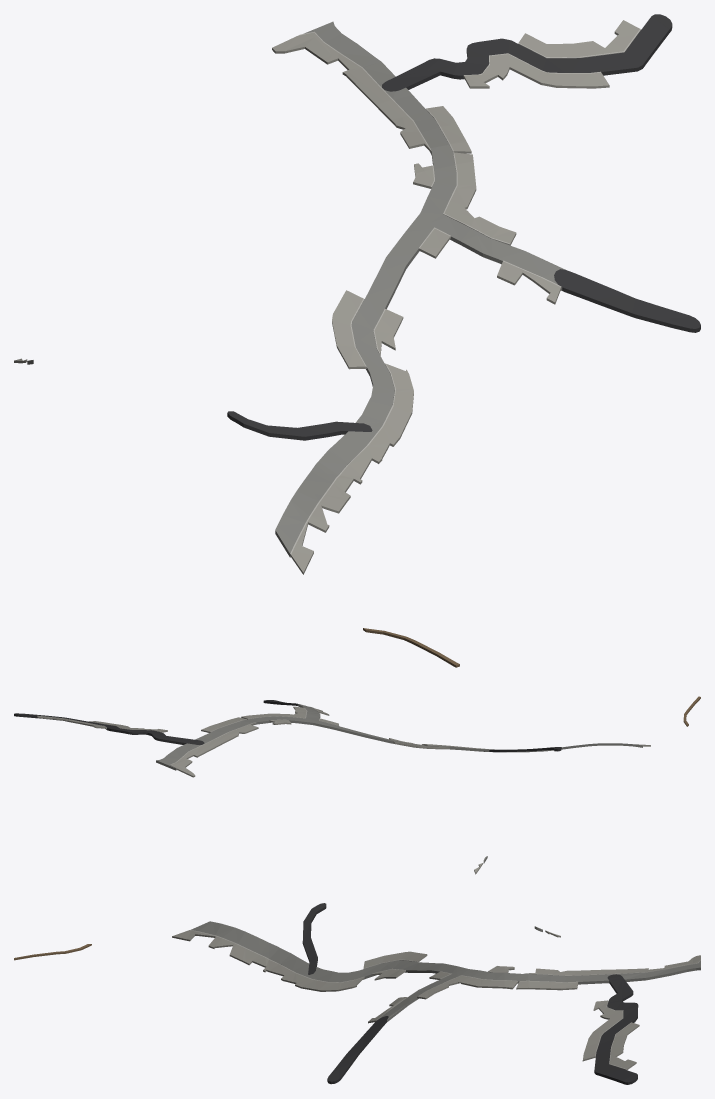
3 renders of one model, top to bottom at view 1: azimuth 30°, elevation 25°; view 2: azimuth 150°, elevation 25°; view 3: azimuth 270°, elevation 25°, orthographic. The views are drawn at different scales.
Size of the model in its own units: 233 by 55.8 by 292.
